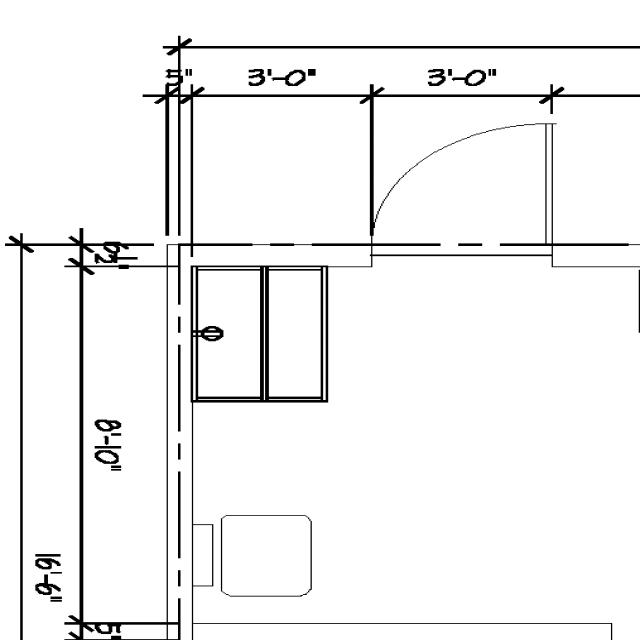Doors: (363, 121, 559, 256)
